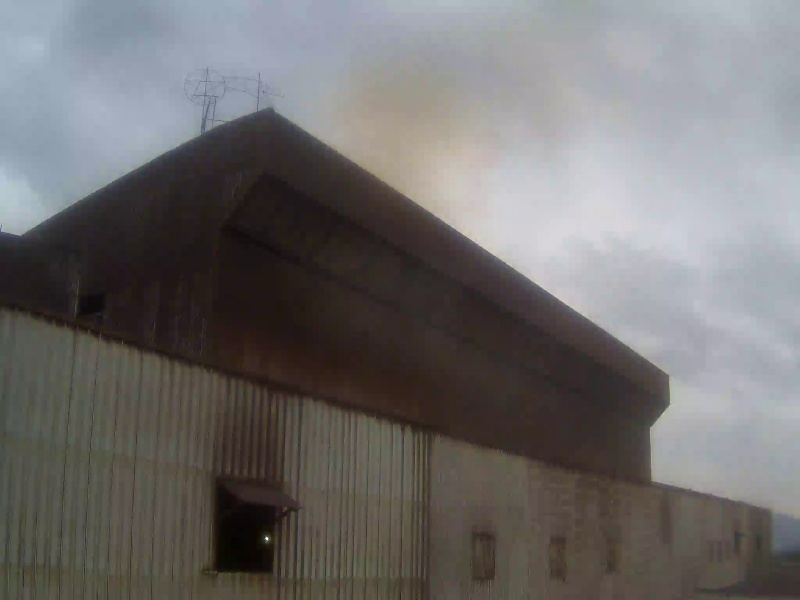bom: (600, 203, 800, 431), (1, 1, 259, 122)
ruim: (353, 52, 476, 209)
